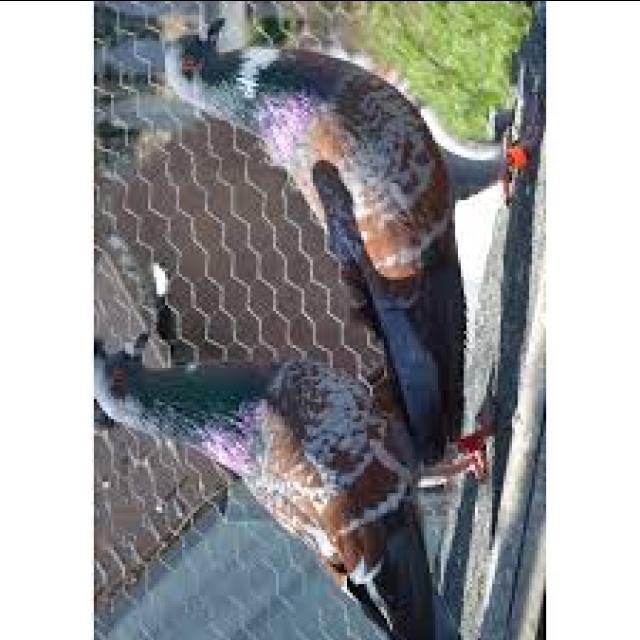pigeon: (90, 326, 477, 636)
